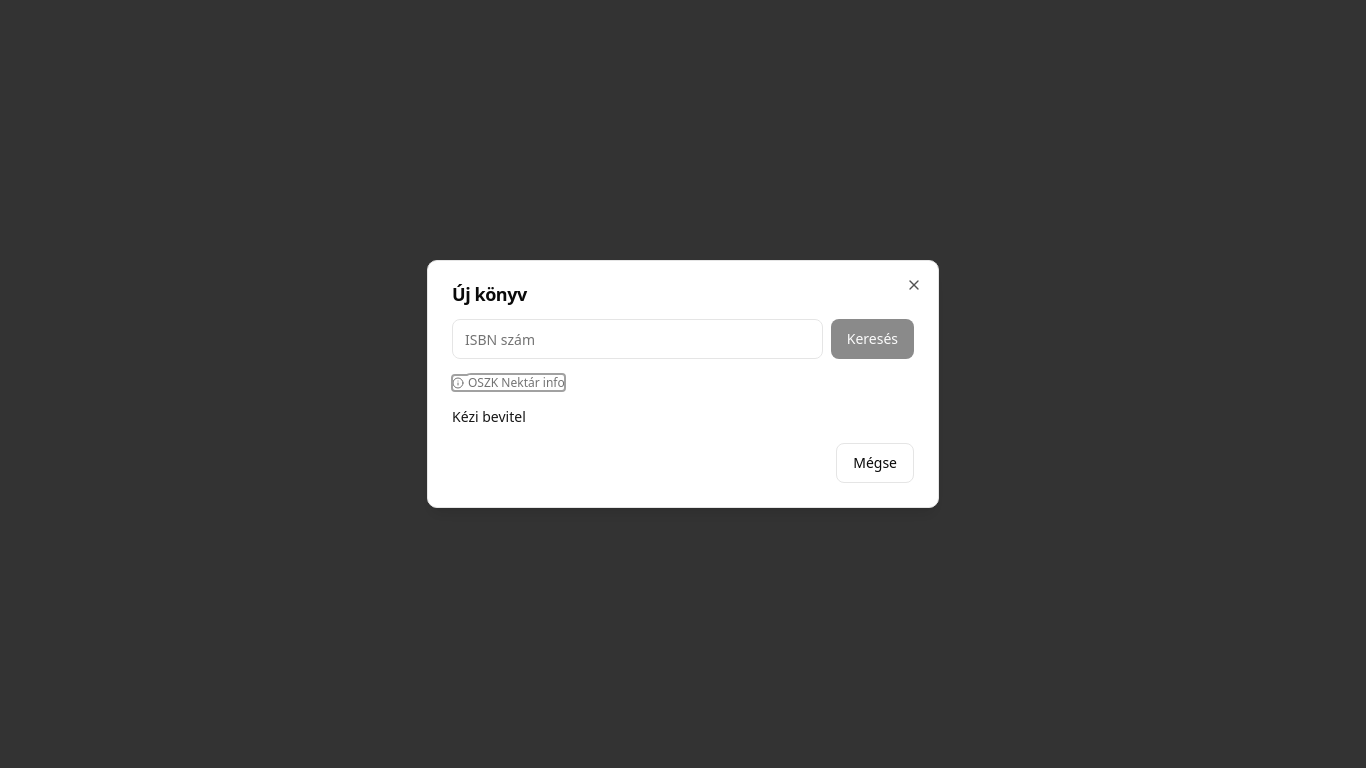
Scenario: BookFormModal — create mode - manual entry › save button is disabled when title is empty
Click the button "Kézi bevitel" at (489, 417), box [452, 407, 526, 427]
(page scrolled)
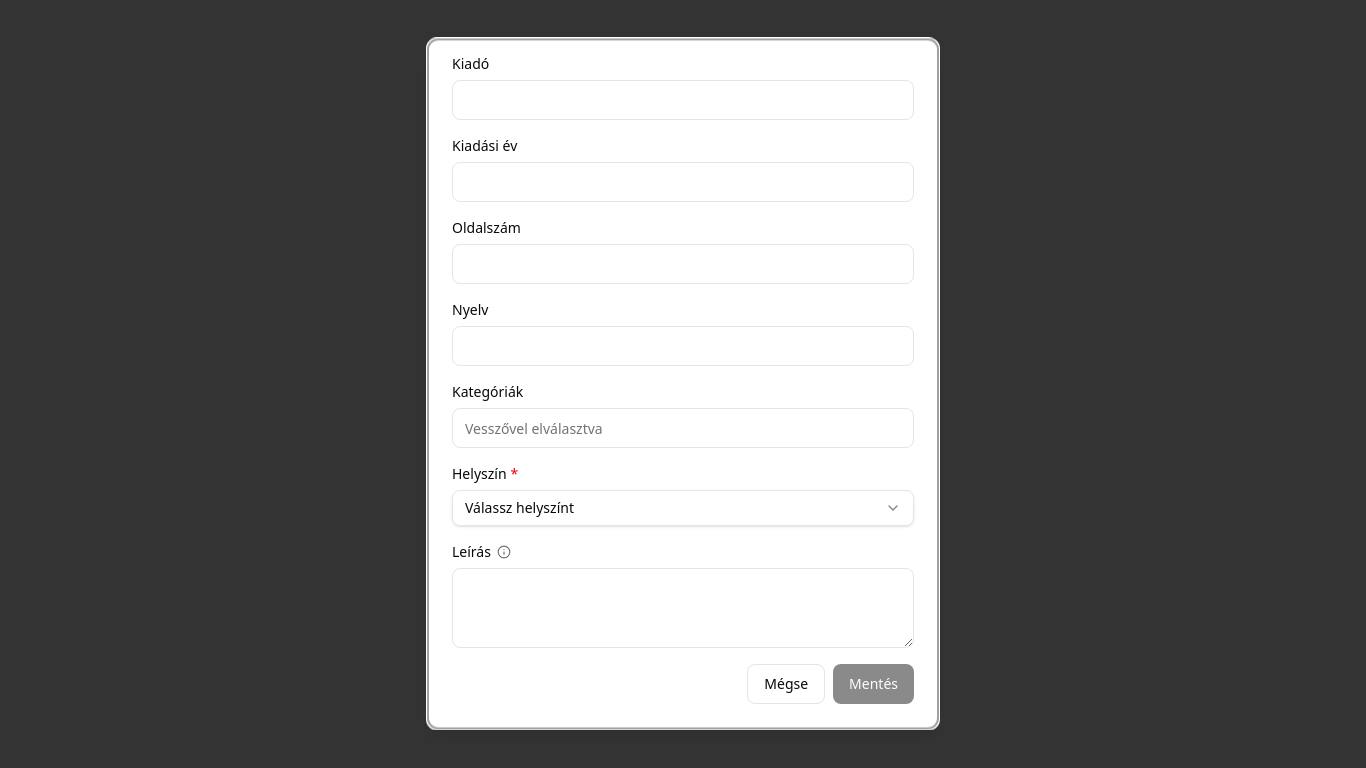
Expected: the button "Mentés" is disabled, [833, 664, 914, 704]
